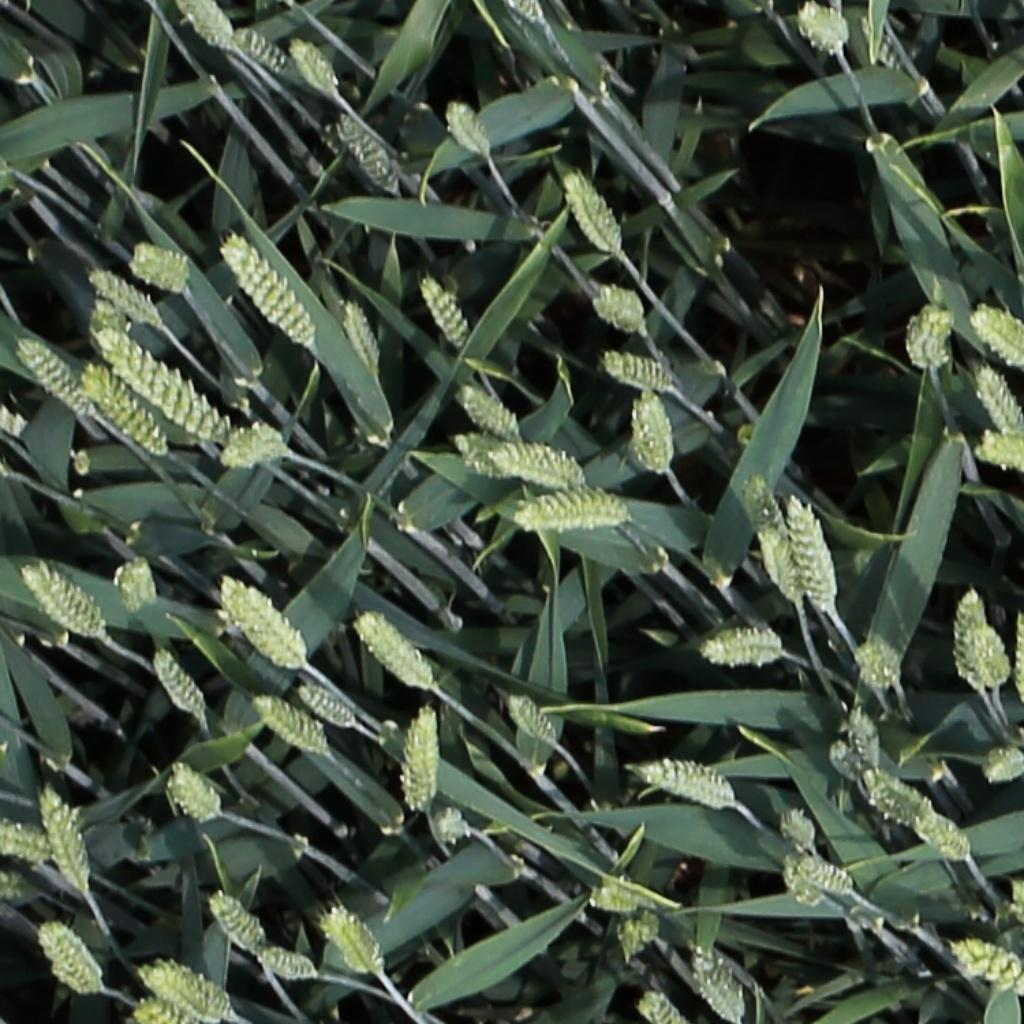0-0: (98, 328, 238, 446), (216, 559, 325, 674), (215, 233, 314, 345), (453, 430, 595, 498), (87, 372, 171, 462), (631, 748, 734, 815), (15, 335, 94, 421), (329, 103, 401, 197), (514, 483, 642, 535), (699, 616, 785, 692), (350, 613, 431, 693), (38, 787, 90, 901), (951, 939, 1024, 1019), (557, 166, 623, 253), (796, 498, 844, 616), (35, 918, 101, 998), (20, 570, 98, 636), (686, 939, 745, 1022), (146, 645, 206, 724), (316, 905, 379, 980), (149, 965, 234, 1019), (401, 710, 447, 807), (589, 280, 659, 343), (413, 271, 468, 350), (972, 359, 1024, 442), (217, 410, 295, 465), (249, 699, 324, 756), (86, 267, 158, 326), (760, 534, 808, 620), (454, 382, 520, 443), (334, 294, 380, 379), (204, 891, 263, 957), (632, 385, 676, 471), (282, 32, 338, 99), (229, 28, 300, 80), (163, 761, 218, 827), (864, 774, 935, 825), (126, 245, 195, 296), (966, 618, 1010, 697), (740, 461, 785, 538), (441, 95, 492, 162), (902, 300, 948, 374), (969, 307, 1024, 367), (794, 1, 851, 58), (502, 693, 558, 750), (953, 587, 984, 689), (842, 703, 883, 775), (607, 910, 666, 958), (911, 816, 970, 863), (177, 1, 232, 51), (599, 353, 674, 389), (294, 685, 354, 730), (779, 853, 821, 914), (114, 552, 150, 622), (776, 804, 819, 860), (430, 806, 475, 858), (851, 640, 897, 690), (824, 737, 868, 789), (794, 861, 854, 897), (256, 950, 316, 977), (1006, 876, 1024, 965), (636, 988, 679, 1024), (132, 1000, 192, 1024), (0, 836, 53, 860), (974, 442, 1024, 466), (509, 0, 547, 31), (981, 753, 1024, 780), (587, 891, 638, 912)
